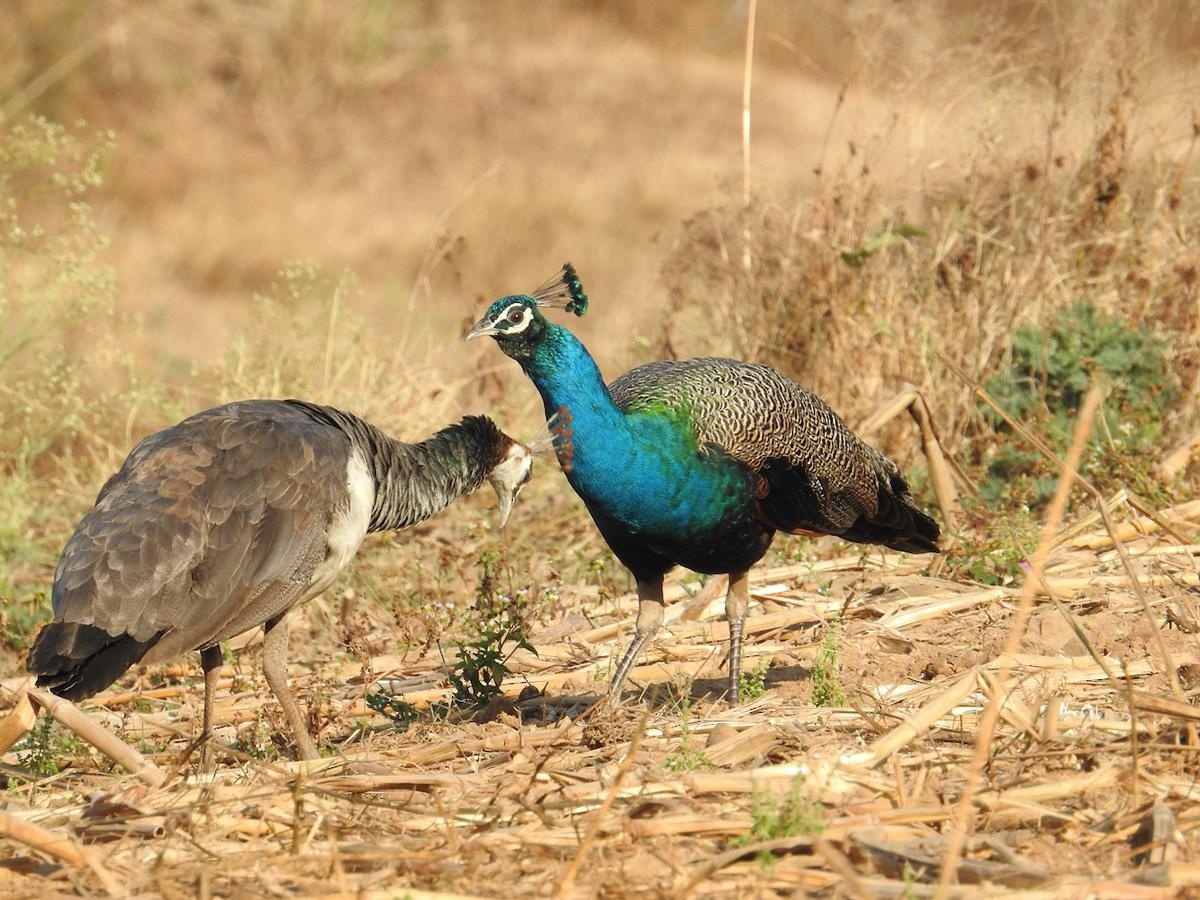peacock: (460, 261, 958, 670), (1, 403, 577, 752)
